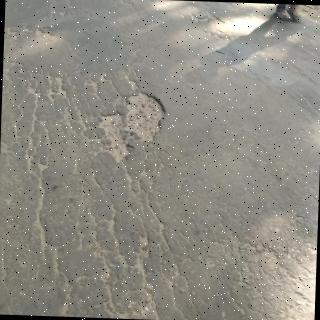pothole: (98, 93, 165, 164)
